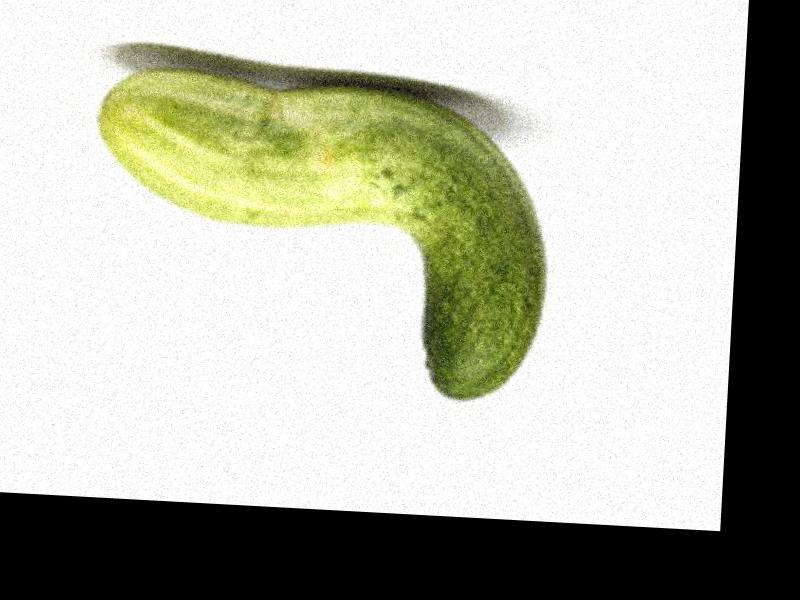Cucumber: (83, 62, 557, 404)
